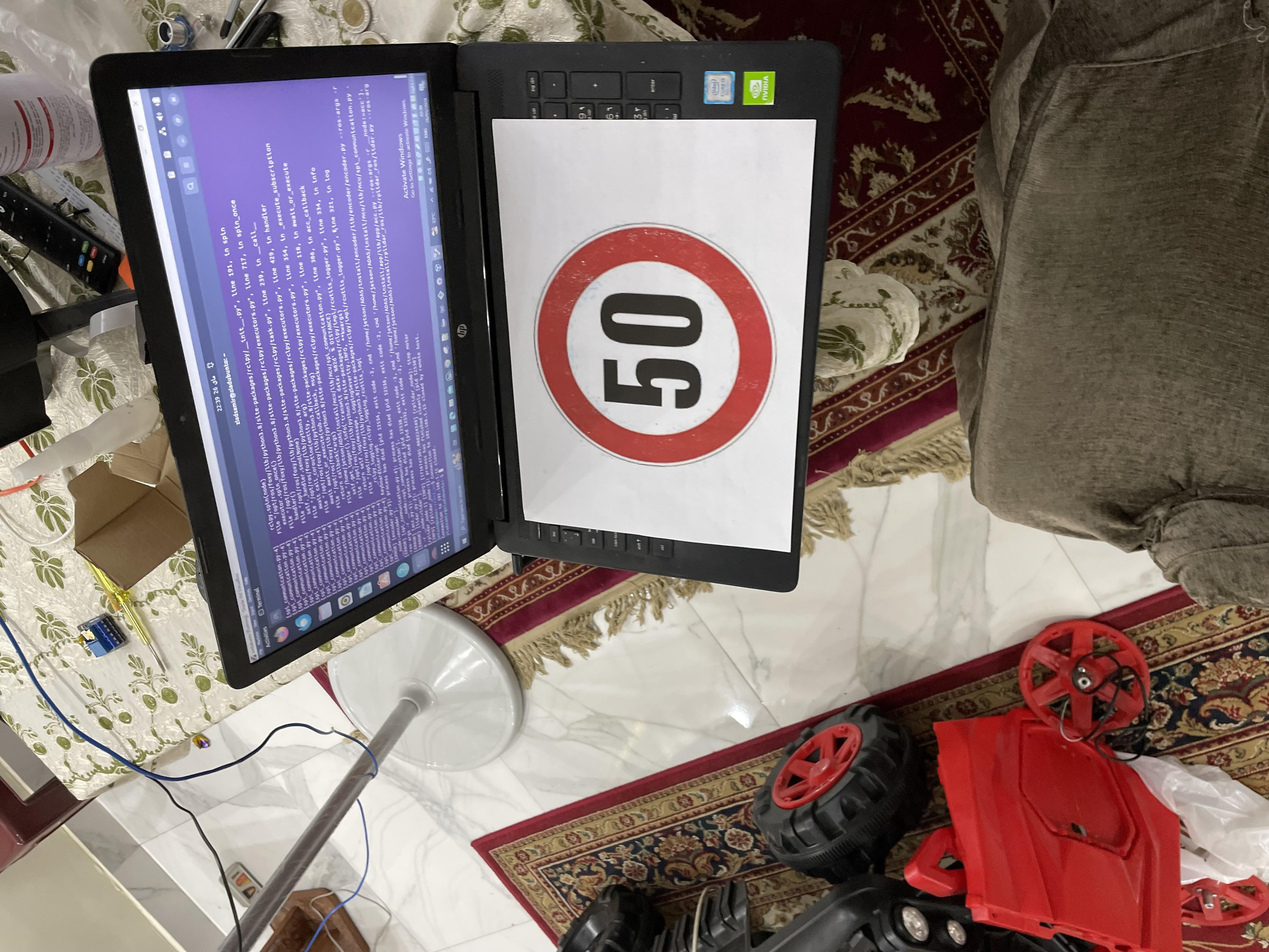50-Speed: (639, 395, 972, 583)
